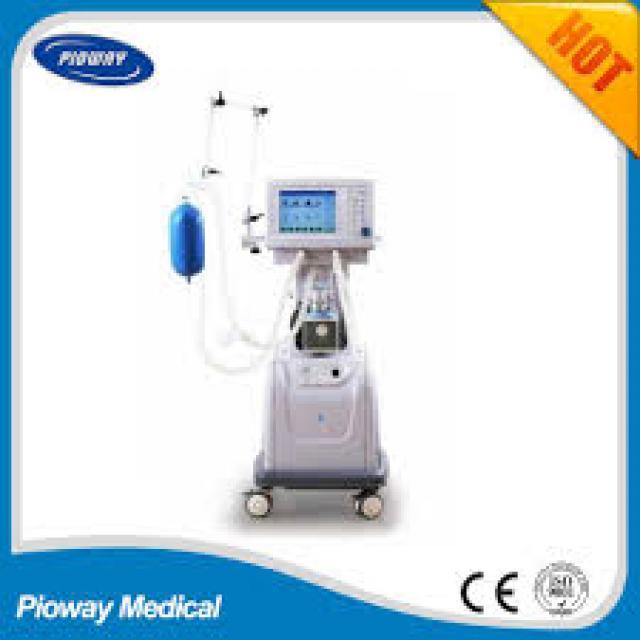ventilator: (177, 81, 412, 527)
